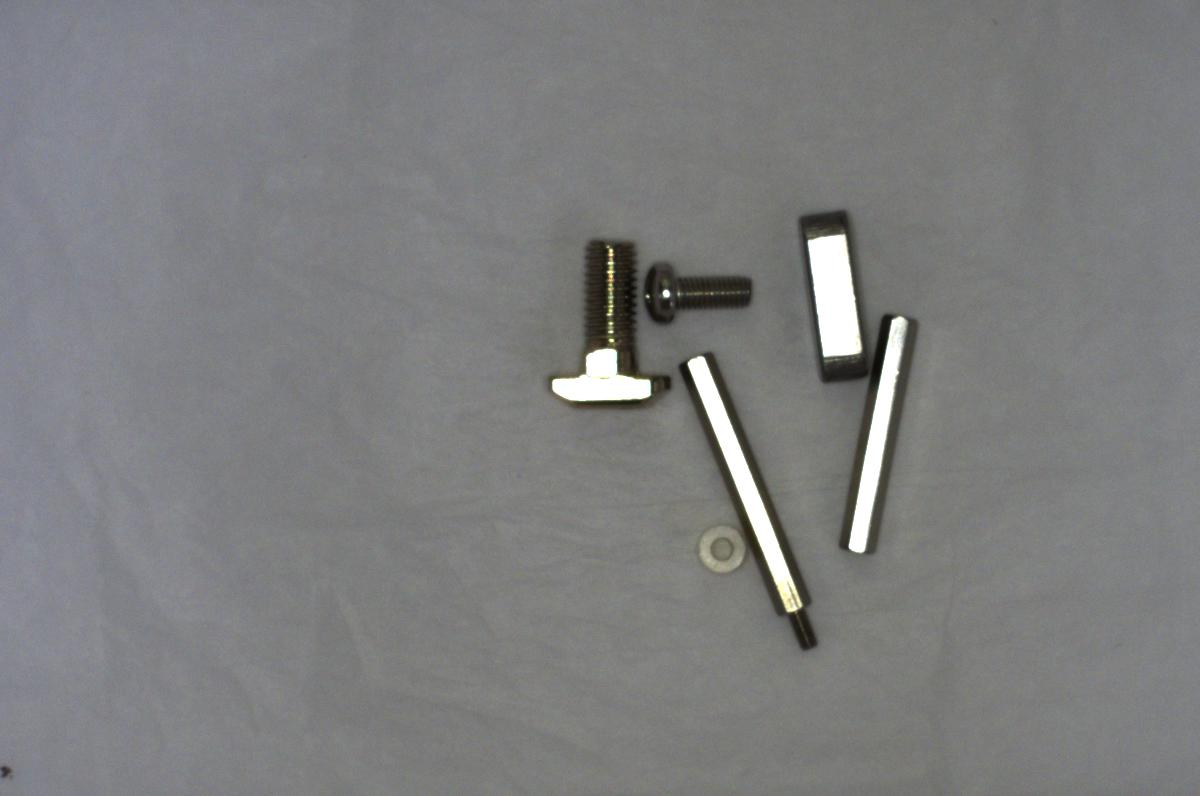Double hexagonal column: (835, 306, 914, 567)
Hexagonal steel column: (675, 344, 834, 662)
Keybar: (788, 194, 882, 383)
Plastic cushion pillar: (688, 517, 744, 580)
Round head screw: (633, 249, 760, 330)
T-shaped screw: (546, 232, 670, 406)
